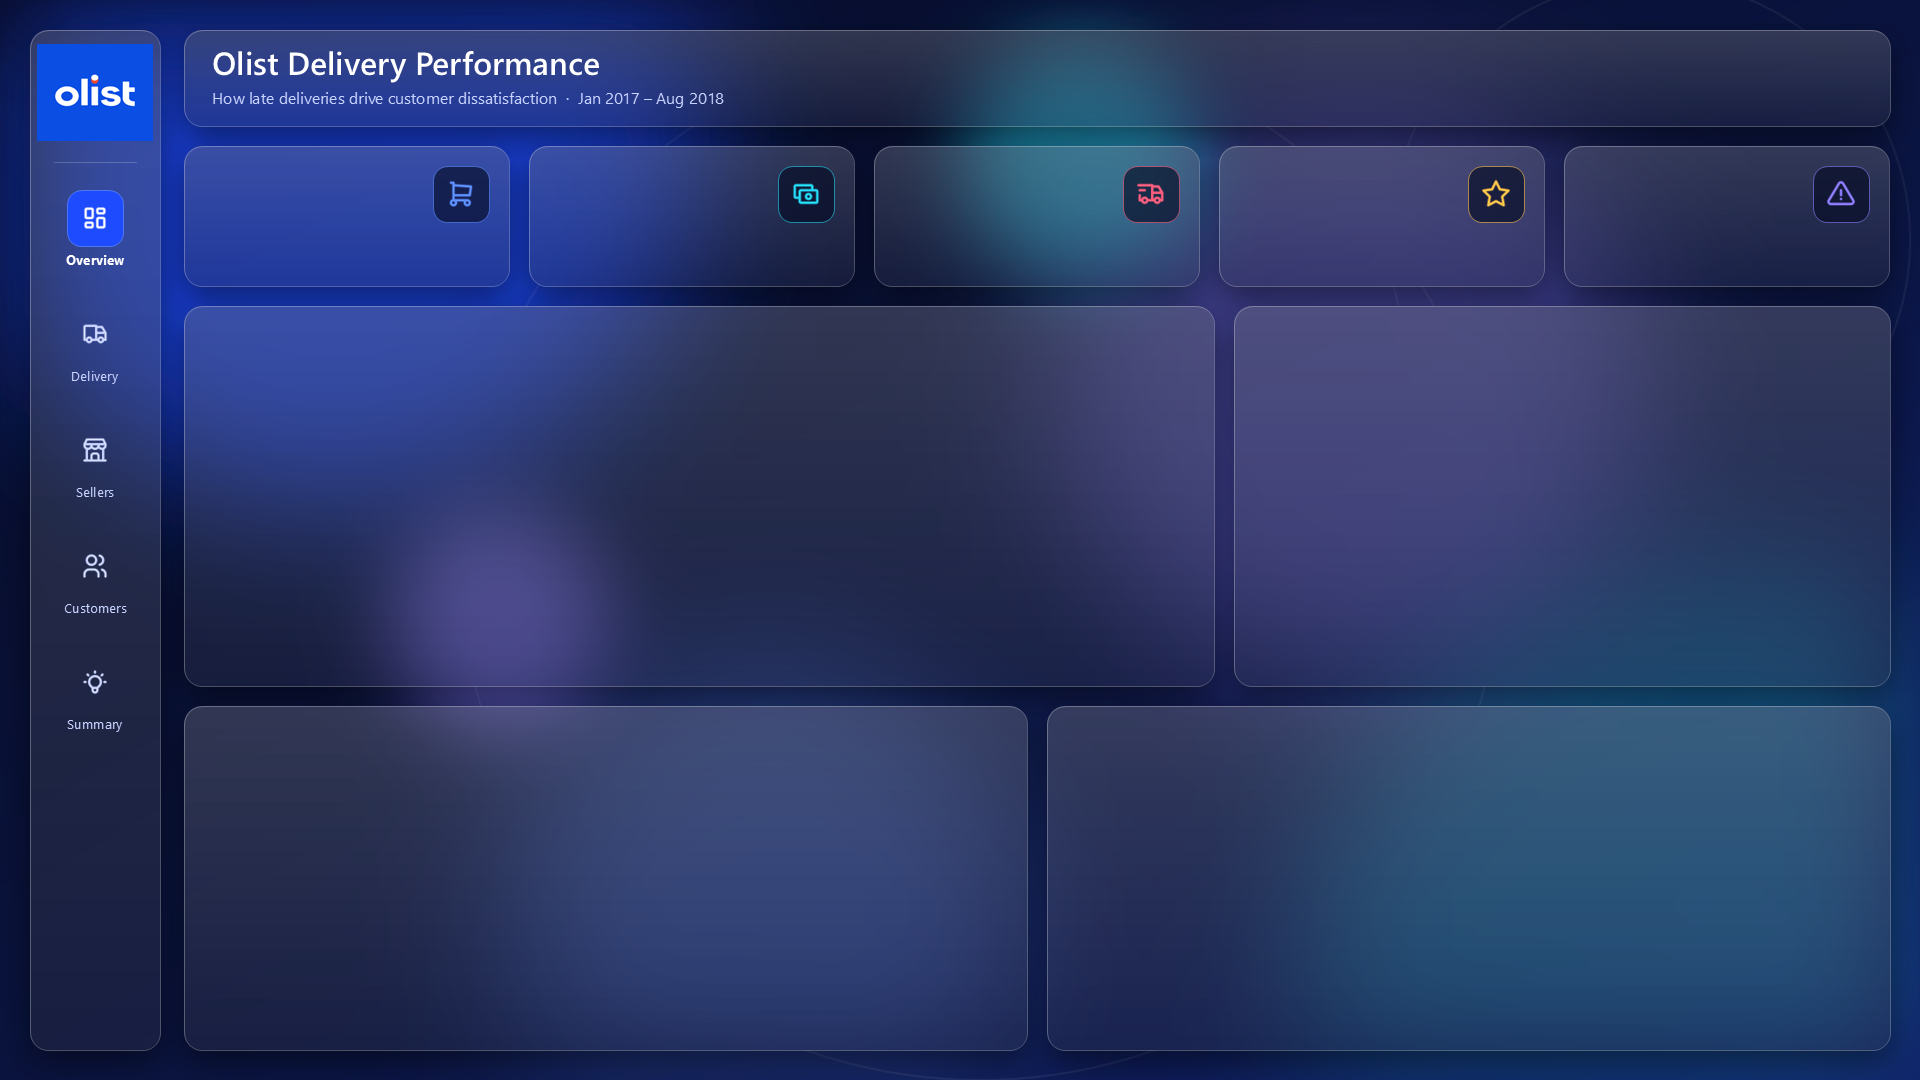

The dashboard page shown, as its layout file describes it:
{"tool":"powerbi","page":{"name":"Overview","canvas":[1920,1080],"ordinal":1},"visuals":[{"type":"cardVisual","fields":{"Data":["_Measures.Total Orders"]},"box":[186.5,147.3,233.7,153.2],"z":0},{"type":"slicer","fields":{"Values":["Calendar.Year-Month"]},"box":[1563.1,39.3,313.8,80.5],"z":1000},{"type":"slicer","fields":{"Values":["Customers.customer_state"]},"box":[1140.5,38.9,315.4,79.9],"z":2000},{"type":"cardVisual","fields":{"Data":["_Measures.Late Order Revenue"]},"box":[1563.8,149,248.4,153.4],"z":3000},{"type":"cardVisual","fields":{"Data":["_Measures.Avg Review Score"]},"box":[1220.4,149,216,153.4],"z":4000},{"type":"cardVisual","fields":{"Data":["_Measures.Late Delivery %"]},"box":[877,149,218.2,153.4],"z":5000},{"type":"cardVisual","fields":{"Data":["_Measures.Total Revenue"]},"box":[532.1,147.3,243.5,153.2],"z":6000},{"type":"lineChart","title":"Late deliveries vs. review score by month","fields":{"Category":["Calendar.Year-Month"],"Y":["_Measures.Late Delivery %"],"Y2":["_Measures.Avg Review Score"]},"box":[186.5,302.4,1034.8,379],"z":7000},{"type":"clusteredBarChart","title":"Review score by delivery status","fields":{"Category":["Orders.Delivery Status"],"Y":["_Measures.Avg Review Score"]},"box":[1237.7,302.4,654.5,378],"z":8000},{"type":"clusteredColumnChart","title":"Late delivery % by customer state","fields":{"Category":["Customers.customer_state"],"Y":["_Measures.Late Delivery %"]},"box":[185.8,704.2,840.2,341.3],"z":9000},{"type":"hundredPercentStackedBarChart","title":"How customers rate: on-time vs late","fields":{"Category":["Orders.Delivery Status"],"Series":["Reviews.review_score"],"Y":["_Measures.Review Count"]},"box":[1044.4,704.7,848.2,341.8],"z":10000},{"type":"actionButton","box":[51.8,540,82.1,82.1],"z":11000},{"type":"actionButton","box":[51.8,425.5,82.1,82.1],"z":12000},{"type":"actionButton","box":[51.8,302.4,82.1,82.1],"z":13000},{"type":"actionButton","box":[51.8,648,82.1,86.4],"z":13001}]}

Visuals, with their boxes on the page's 1920x1080 design canvas (x1, y1, x2, y2). These are canvas units, not pixel positions in the 1920x1080 screenshot, which may show the page scaled, cropped or inside an application window:
cardVisual - _Measures.Total Orders: x1=186, y1=147, x2=420, y2=300
slicer - Calendar.Year-Month: x1=1563, y1=39, x2=1877, y2=120
slicer - Customers.customer_state: x1=1140, y1=39, x2=1456, y2=119
cardVisual - _Measures.Late Order Revenue: x1=1564, y1=149, x2=1812, y2=302
cardVisual - _Measures.Avg Review Score: x1=1220, y1=149, x2=1436, y2=302
cardVisual - _Measures.Late Delivery %: x1=877, y1=149, x2=1095, y2=302
cardVisual - _Measures.Total Revenue: x1=532, y1=147, x2=776, y2=300
"Late deliveries vs. review score by month" lineChart: x1=186, y1=302, x2=1221, y2=681
"Review score by delivery status" clusteredBarChart: x1=1238, y1=302, x2=1892, y2=680
"Late delivery % by customer state" clusteredColumnChart: x1=186, y1=704, x2=1026, y2=1046
"How customers rate: on-time vs late" hundredPercentStackedBarChart: x1=1044, y1=705, x2=1893, y2=1046
actionButton: x1=52, y1=540, x2=134, y2=622
actionButton: x1=52, y1=426, x2=134, y2=508
actionButton: x1=52, y1=302, x2=134, y2=384
actionButton: x1=52, y1=648, x2=134, y2=734
